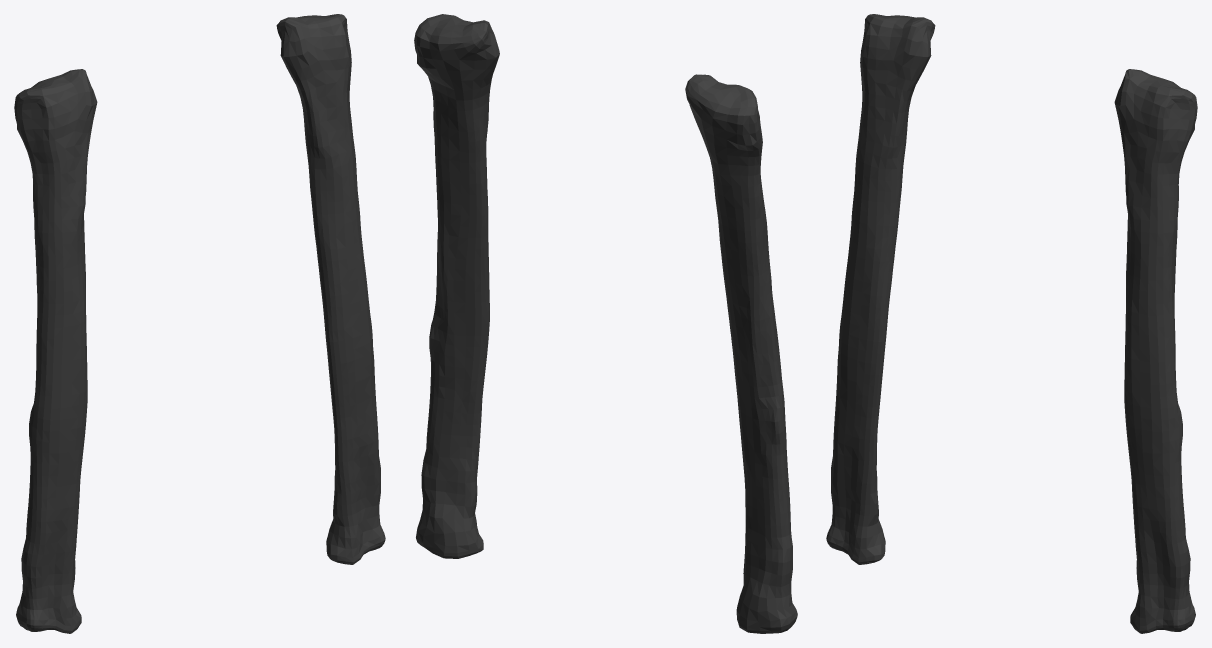
Rendered from Radius_1.glb.
3 views of the same model, side by side, from view 1: azimuth 30°, elevation 25°; view 2: azimuth 150°, elevation 25°; view 3: azimuth 330°, elevation 25° (orthographic). The views are drawn at different scales.
Parts seen in each view (by area): view 1: Radius_1; view 2: Radius_1; view 3: Radius_1.
Part boxes in pixels (x1,y1,x2,y2): Radius_1: (14, 14, 385, 633); Radius_1: (414, 14, 797, 633); Radius_1: (826, 14, 1197, 633).
Bounding box in the file's own units: 0.00415 × 0.0059 × 0.000833.
1 material, 1 textured.
